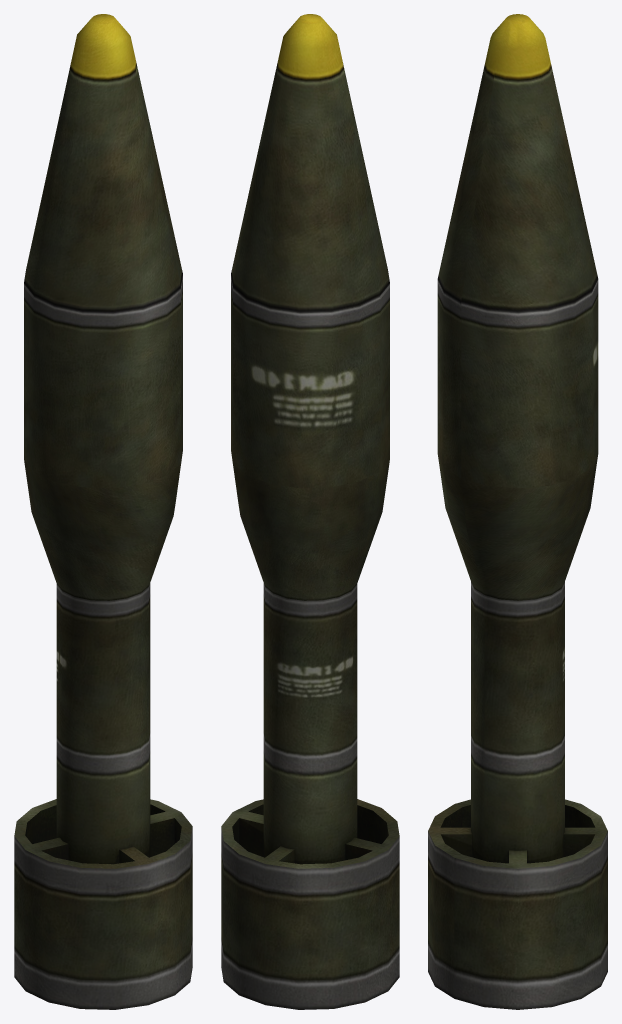
The model's file is rocket.obj.
3 renders of one model, left to right at view 1: azimuth 30°, elevation 25°; view 2: azimuth 150°, elevation 25°; view 3: azimuth 270°, elevation 25°, orthographic.
Visible parts, largest first — view 1: whole; view 2: whole; view 3: whole.
Boxes of the visible parts, x1,y1,x2,y2 form: whole: [14, 14, 192, 1009]; whole: [221, 14, 399, 1009]; whole: [428, 14, 607, 1009].
Size of the model in its own units: 1.57 by 9.19 by 1.57.
1 material, 1 textured.
